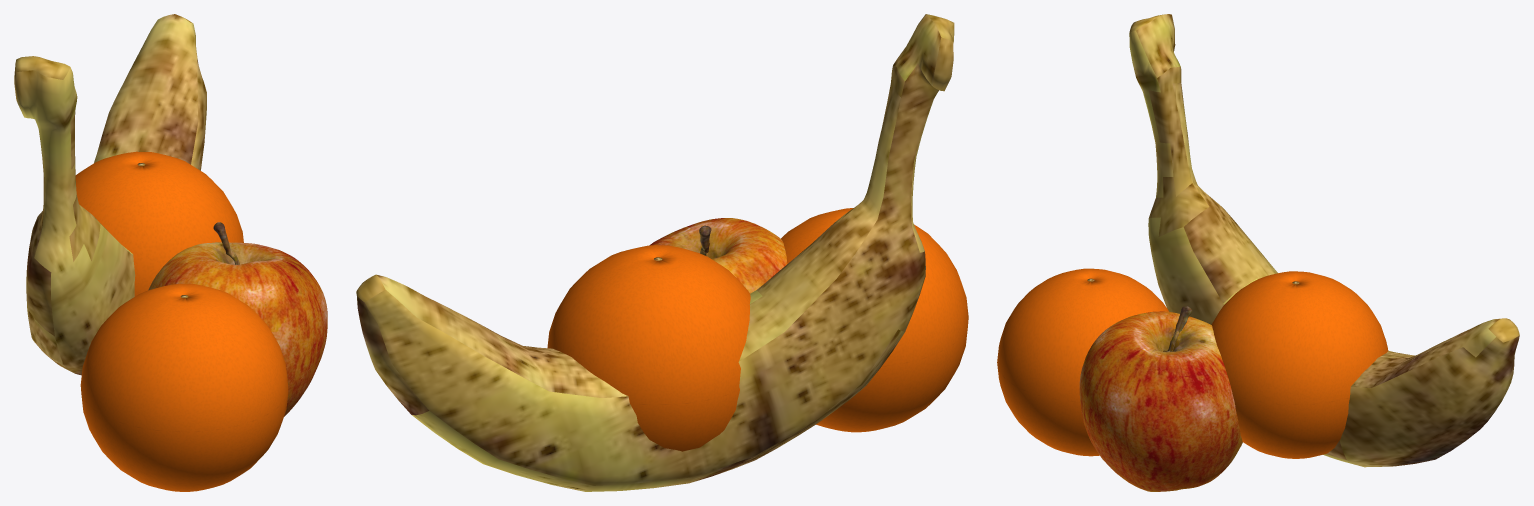
The model's file is escena.obj.
3 views of the same model, side by side, from view 1: azimuth 30°, elevation 25°; view 2: azimuth 150°, elevation 25°; view 3: azimuth 270°, elevation 25° (orthographic). The views are drawn at different scales.
Visible parts, largest first — view 1: Orange.001, Cube.001, Orange, objapple; view 2: Cube.001, Orange, Orange.001, objapple; view 3: Cube.001, Orange, objapple, Orange.001.
Part boxes in pixels (box(x1,y1,x2,y2)): Orange.001: box(80, 283, 288, 491); Cube.001: box(14, 14, 206, 375); Orange: box(75, 151, 243, 296); objapple: box(148, 222, 327, 416); Cube.001: box(356, 14, 954, 491); Orange: box(547, 245, 750, 451); Orange.001: box(781, 208, 968, 432); objapple: box(649, 218, 787, 293); Cube.001: box(1129, 14, 1519, 467); Orange: box(1211, 271, 1388, 458); objapple: box(1079, 306, 1242, 491); Orange.001: box(997, 268, 1168, 456).
Size of the model in its own units: 4.05 by 4.48 by 5.57.
Materials: 6 (6 with a texture image).
